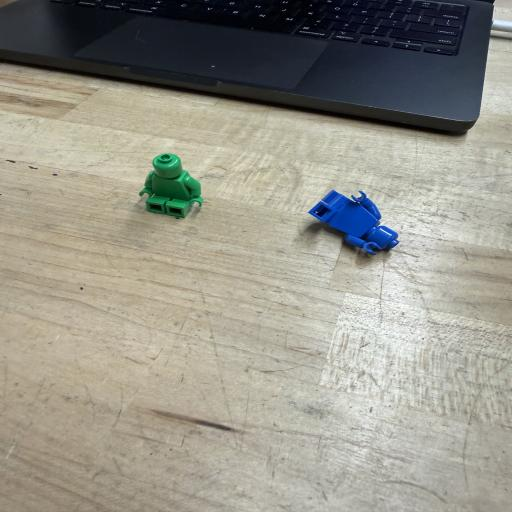blue-minifig: (309, 190, 399, 255), (309, 190, 378, 238)
green-minifig: (139, 154, 202, 217), (168, 158, 219, 196)
